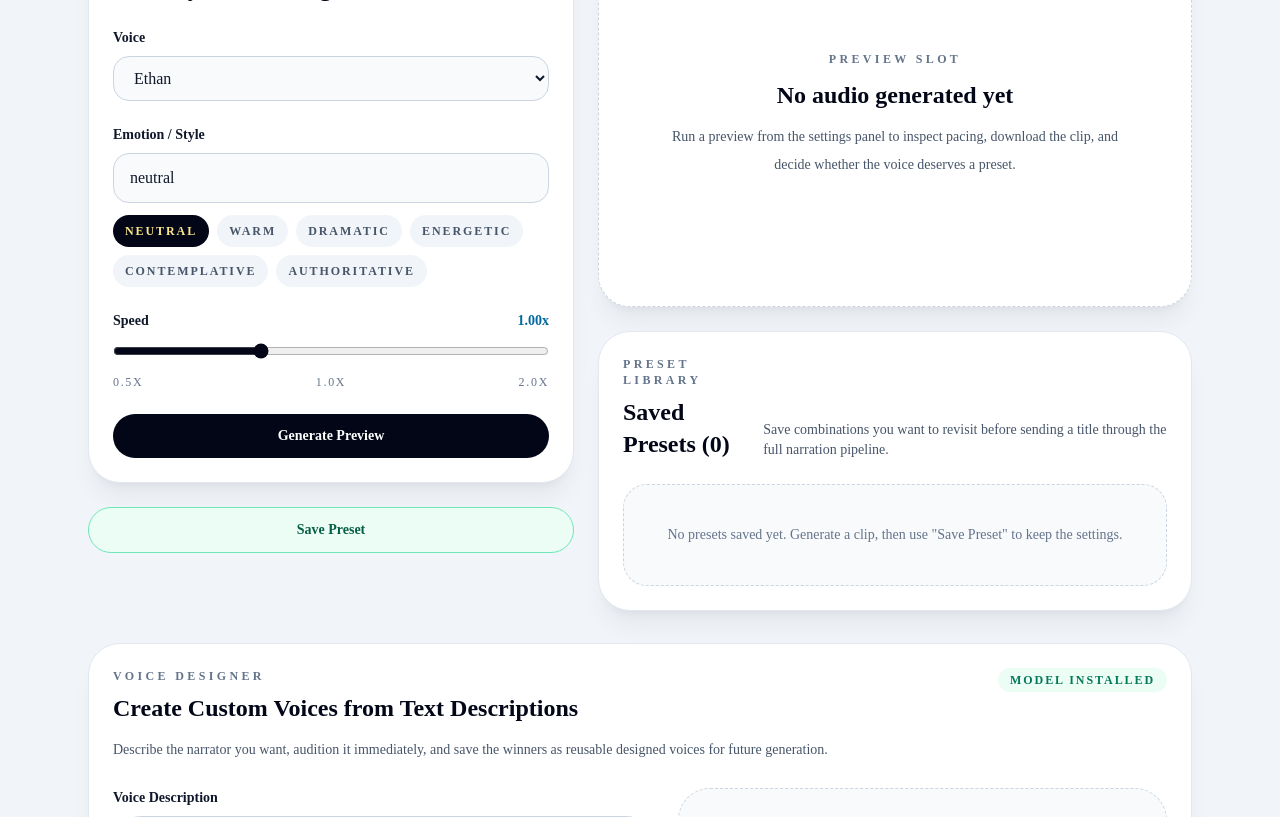
Test: VoiceLab page › shows a helpful busy message when preview generation returns 503
(page scrolled)
Step 1. Click the button "Generate Preview" → {"x": 331, "y": 436}, box [113,414,549,458]
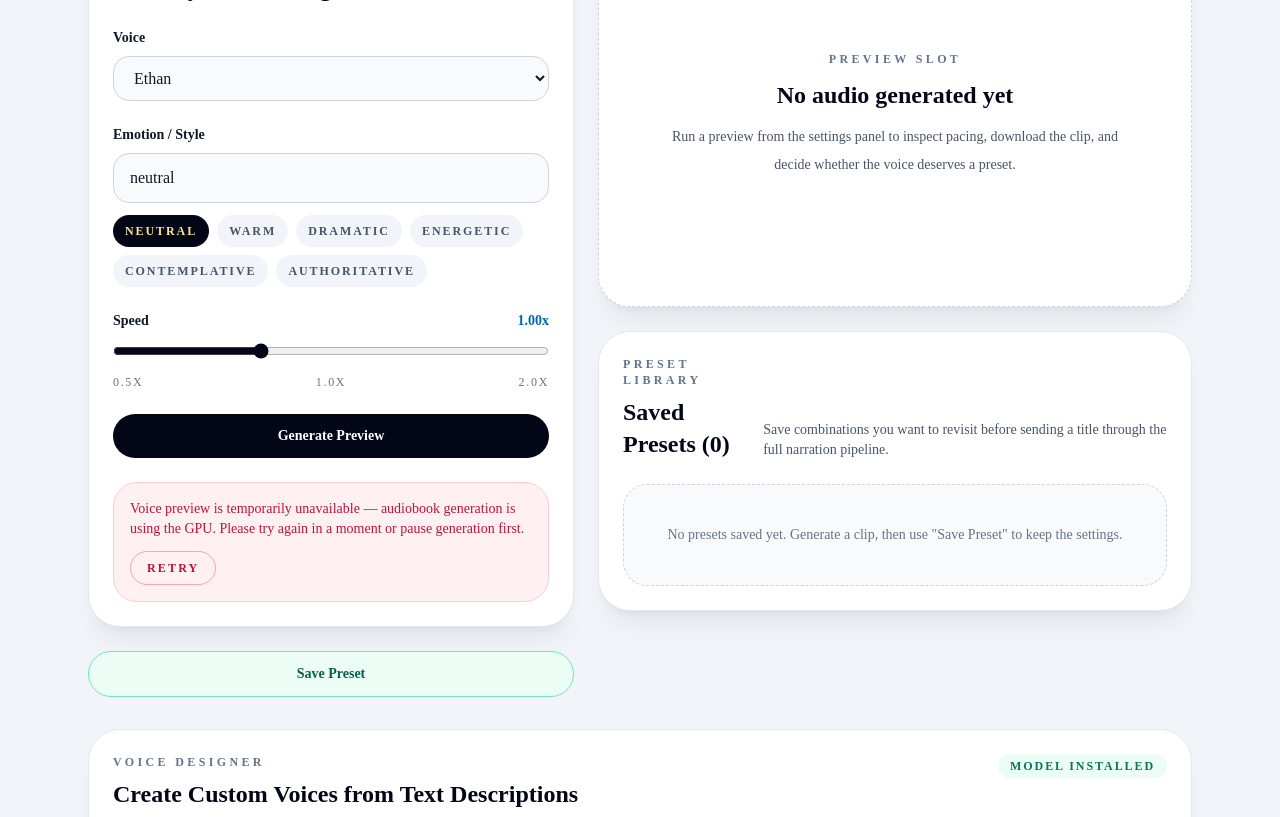
expect the text "Voice preview is temporarily unavailable — audiobook generation is using the GPU. Please try again in a moment or pause generation first." is shown: met, box [130,501,524,536]
expect the text "Retry" is shown: met, box [130,551,216,585]
